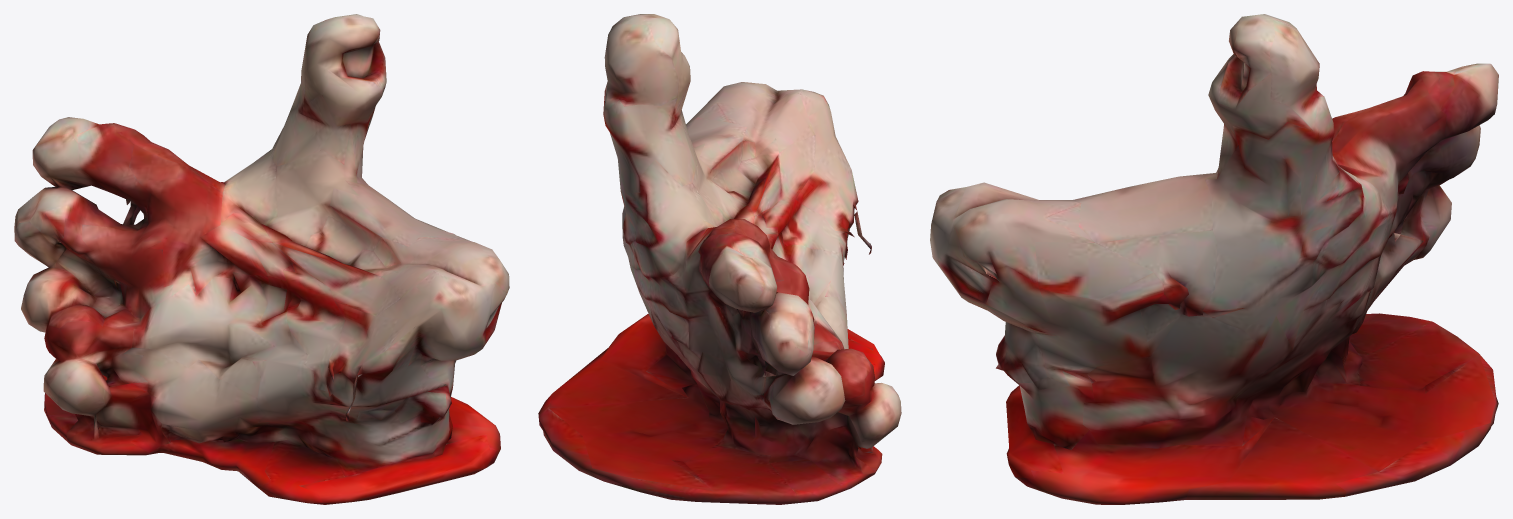
The model's file is foot.glb.
3 renders of one model, left to right at view 1: azimuth 30°, elevation 25°; view 2: azimuth 150°, elevation 25°; view 3: azimuth 270°, elevation 25°, orthographic. The views are drawn at different scales.
Visible parts, largest first — view 1: Mesh_0; view 2: Mesh_0; view 3: Mesh_0.
Part boxes in pixels (x1,y1,x2,y2): Mesh_0: (14, 14, 509, 504); Mesh_0: (538, 14, 901, 504); Mesh_0: (930, 14, 1498, 504).
Bounding box in the file's own units: 1.66 × 1.72 × 2.
Materials: 1 (1 with a texture image).
